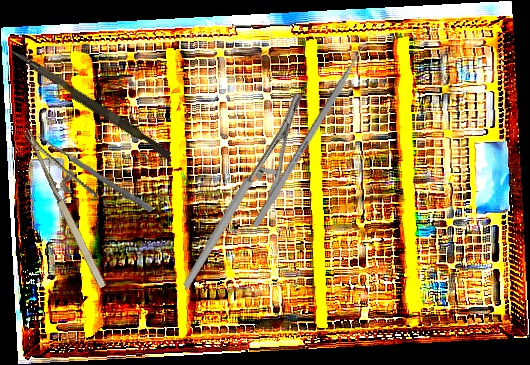Needle Holder: (134, 90, 350, 290), (22, 113, 133, 291)
Pusher: (251, 25, 379, 229), (5, 47, 175, 160)
Surgical Spoon: (35, 132, 154, 213)
